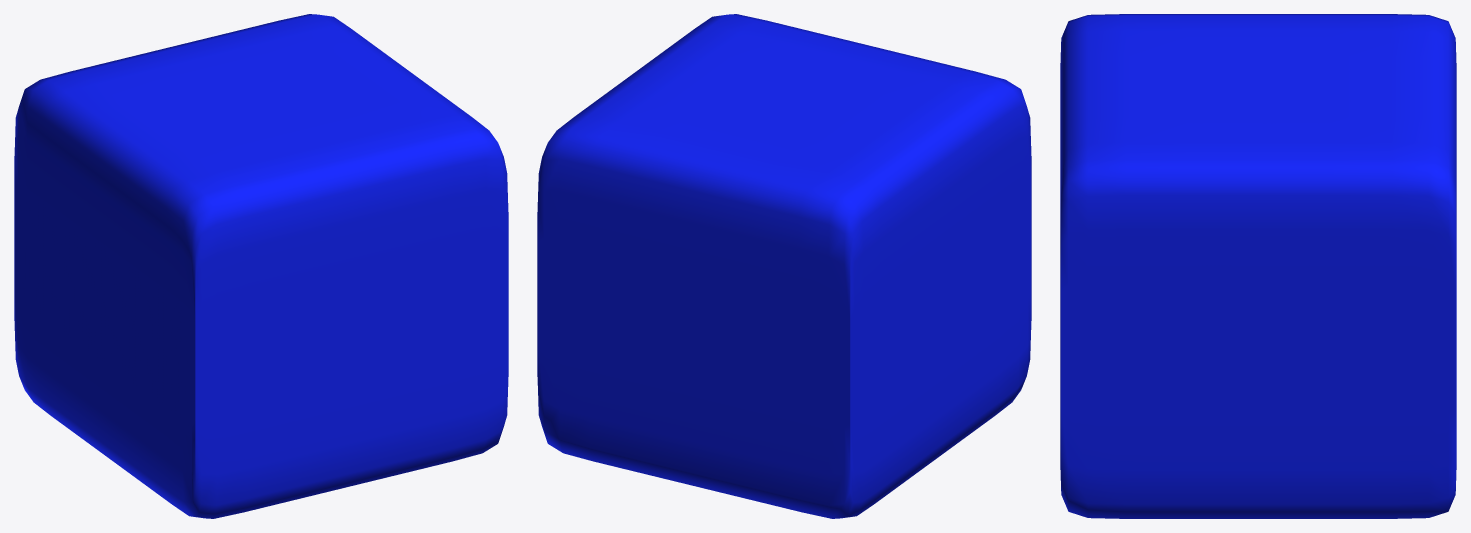
3 views of the same model, side by side, from view 1: azimuth 30°, elevation 25°; view 2: azimuth 150°, elevation 25°; view 3: azimuth 270°, elevation 25° (orthographic). The views are drawn at different scales.
Visible parts, largest first — view 1: Cube; view 2: Cube; view 3: Cube.
Part boxes in pixels (x1,y1,x2,y2): Cube: (14, 14, 508, 518); Cube: (537, 14, 1031, 518); Cube: (1060, 14, 1456, 518).
Size of the model in its own units: 2 by 2 by 2.
